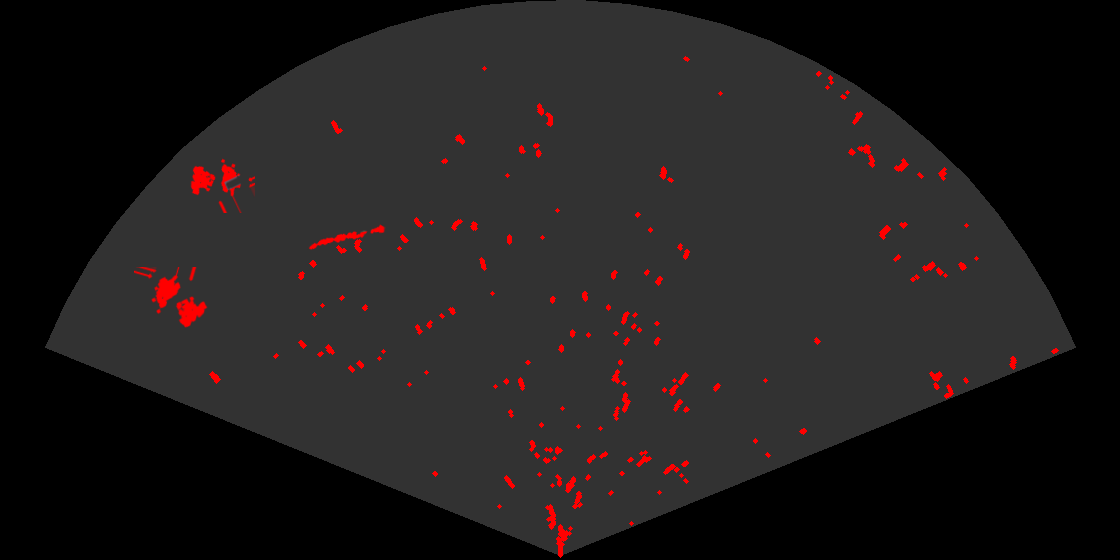cage: (134, 267, 209, 329), (189, 157, 255, 213)
chain: (307, 223, 386, 251)
